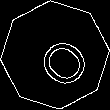O_NW: (22, 22, 88, 88)
